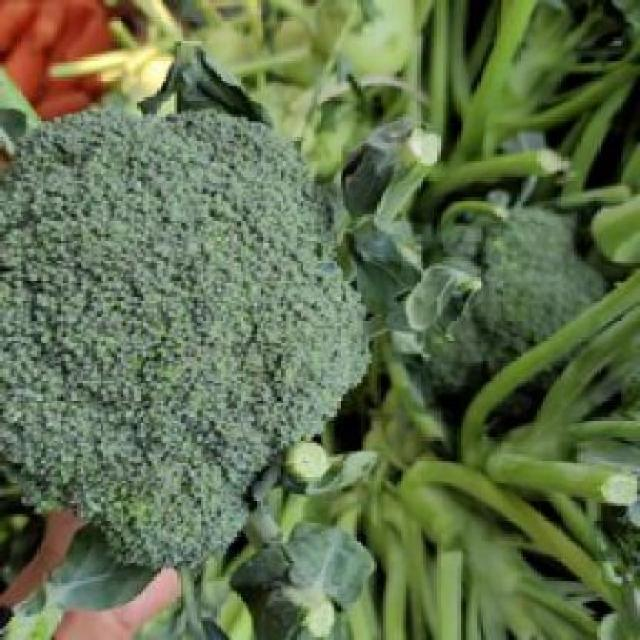broccoli: (6, 82, 420, 595), (434, 186, 632, 480)
